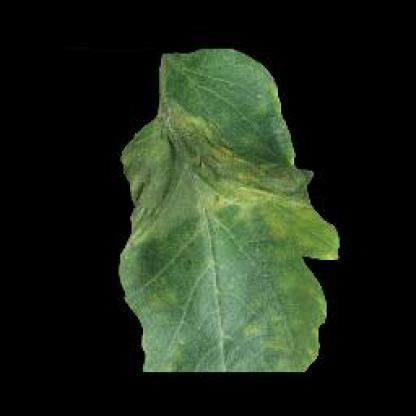bad leaf: (84, 22, 350, 387)
